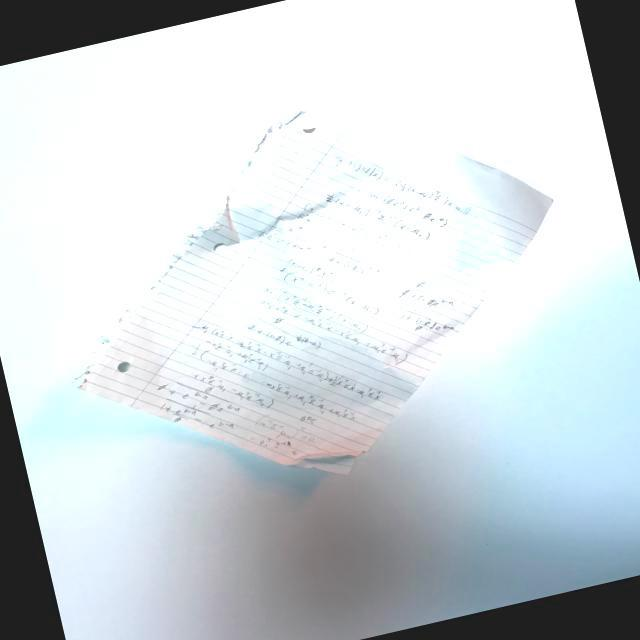paper: (10, 35, 640, 539)
